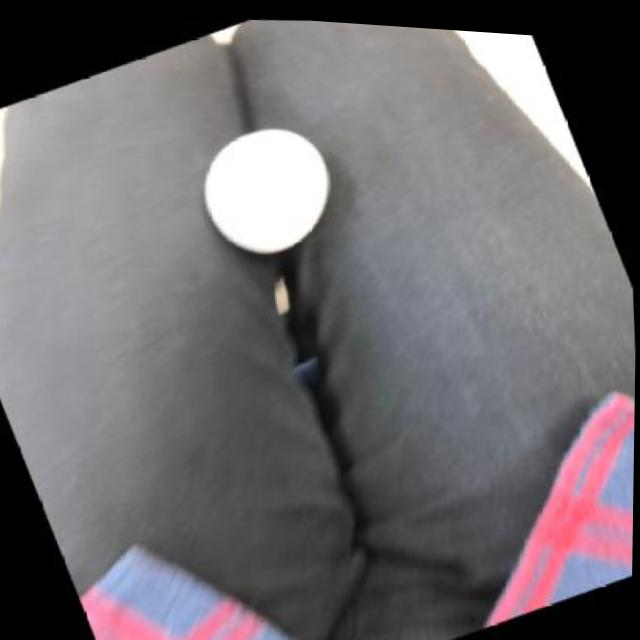egg: (198, 116, 337, 258)
